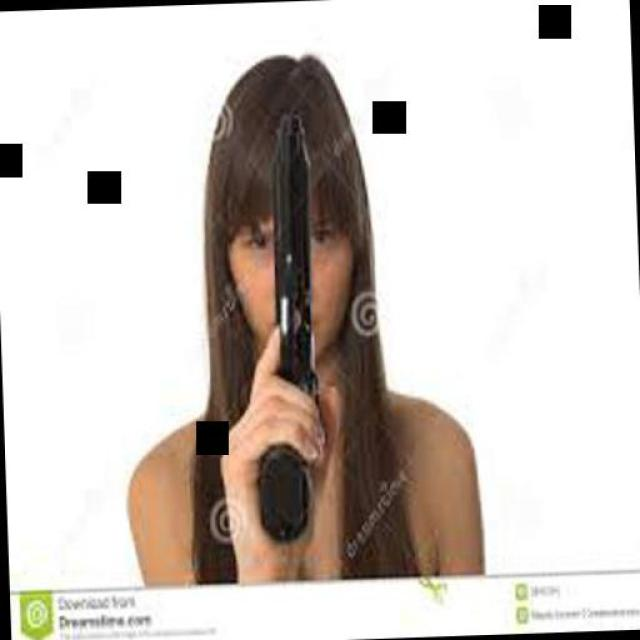gun: (210, 98, 341, 552)
